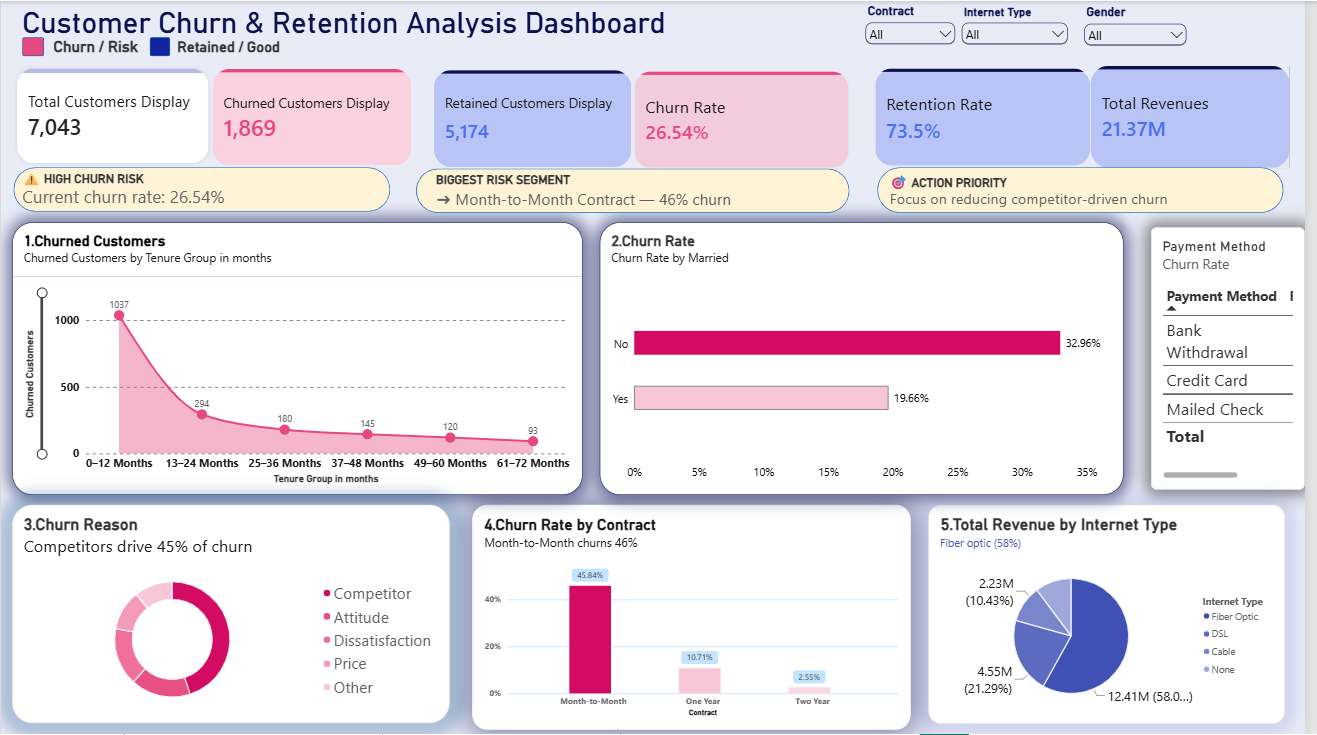

The page's visual inventory and layout, read from the dashboard file:
{"tool":"powerbi","page":{"name":"Churning & Retention Analysis","canvas":[1920,1080],"ordinal":0},"visuals":[{"type":"clusteredColumnChart","title":"4.Churn Rate by Contract","fields":{"Category":["customer churn services.Contract"],"Y":["Customer Churn Status.Churn Rate"]},"box":[694.5,741.8,645.5,330.9],"z":1},{"type":"lineChart","title":"1.Churned Customers","fields":{"Category":["customer churn services.Tenure Group in months"],"Y":["Customer Churn Status.Churned Customers"]},"box":[16.4,325.5,840,401.8],"z":3},{"type":"donutChart","title":"3.Churn Reason","fields":{"Category":["Customer Churn Status.Churn Category"],"Y":["Customer Churn Status.Churned Customers"]},"box":[16.4,741.8,643.6,321.8],"z":4},{"type":"tableEx","title":"Payment Method","fields":{"Values":["customer churn services.Payment Method","Customer Churn Status.Retention Rate"]},"box":[1671.2,333.1,226.4,386.5],"z":5},{"type":"cardVisual","fields":{"Data":["Customer Churn Status.Total Customers Display"]},"box":[18.4,93.9,292,150],"z":7},{"type":"cardVisual","fields":{"Data":["Customer Churn Status.Churned Customers Display"]},"box":[311,99.4,294,144],"z":8},{"type":"cardVisual","fields":{"Data":["Customer Churn Status.Retained Customers Display"]},"box":[636.8,101.2,292,144],"z":9},{"type":"cardVisual","fields":{"Data":["Customer Churn Status.Churn Rate"]},"box":[931.3,103.1,318,144],"z":10},{"type":"cardVisual","fields":{"Data":["Customer Churn Status.Retention Rate"]},"box":[1286.5,99.4,318,144],"z":11},{"type":"cardVisual","fields":{"Data":["customer churn services.Total Revenues"]},"box":[1604.9,95.7,292,150],"z":12},{"type":"shape","box":[219,53.4,30,28],"z":13},{"type":"shape","box":[30.9,52.7,32,28],"z":14},{"type":"textbox","title":"Churn / Risk","box":[77.3,53.4,141.7,29.4],"z":17},{"type":"textbox","title":"Retained / Good","box":[259.5,55.2,176.7,38.7],"z":18},{"type":"textbox","title":"Customer Churn & Retention Analysis Dashboard","box":[31.3,7.4,960,46],"z":21},{"type":"pieChart","title":"5.Total Revenue by Internet Type","fields":{"Category":["customer churn services.Internet Type"],"Y":["customer churn services.Total Revenues"]},"box":[1365.7,741.7,524.5,322.1],"z":22},{"type":"clusteredBarChart","title":"2.Churn Rate","fields":{"Category":["customer churn demographics.Married"],"Y":["Customer Churn Status.Churn Rate"]},"box":[881.6,325.8,771.2,401.2],"z":23},{"type":"shape","box":[18.2,245.5,554.5,65.5],"z":24},{"type":"shape","box":[610.9,247.3,638.2,65.5],"z":25},{"type":"shape","box":[1290.9,245.5,598.2,67.3],"z":26},{"type":"textbox","title":"⚠️ HIGH CHURN RISK ","box":[30.9,247.3,523.6,63.6],"z":27},{"type":"textbox","title":"BIGGEST RISK SEGMENT ","box":[640,252.7,629.1,52.7],"z":28},{"type":"textbox","title":"🎯 ACTION PRIORITY","box":[1309.1,252.7,567.3,52.7],"z":29},{"type":"slicer","fields":{"Values":["customer churn services.Contract"]},"box":[1268.1,3.7,141.7,64.4],"z":30},{"type":"slicer","fields":{"Values":["customer churn services.Internet Type"]},"box":[1409.8,5.5,165.6,64.4],"z":31},{"type":"slicer","fields":{"Values":["customer churn demographics.Gender"]},"box":[1590.2,5.5,160.1,64.4],"z":32}]}

Visuals, with their boxes in screenshot pixels (x1, y1, x2, y2), scaled from the page's 1920x1080 canvas onto the 1317x735 screenshot:
"4.Churn Rate by Contract" clusteredColumnChart: Rect(476, 505, 919, 730)
"1.Churned Customers" lineChart: Rect(11, 222, 587, 495)
"3.Churn Reason" donutChart: Rect(11, 505, 453, 724)
"Payment Method" tableEx: Rect(1146, 227, 1302, 490)
cardVisual - Customer Churn Status.Total Customers Display: Rect(13, 64, 213, 166)
cardVisual - Customer Churn Status.Churned Customers Display: Rect(213, 68, 415, 166)
cardVisual - Customer Churn Status.Retained Customers Display: Rect(437, 69, 637, 167)
cardVisual - Customer Churn Status.Churn Rate: Rect(639, 70, 857, 168)
cardVisual - Customer Churn Status.Retention Rate: Rect(882, 68, 1101, 166)
cardVisual - customer churn services.Total Revenues: Rect(1101, 65, 1301, 167)
shape: Rect(150, 36, 171, 55)
shape: Rect(21, 36, 43, 55)
"Churn / Risk" textbox: Rect(53, 36, 150, 56)
"Retained / Good" textbox: Rect(178, 38, 299, 64)
"Customer Churn & Retention Analysis Dashboard" textbox: Rect(21, 5, 680, 36)
"5.Total Revenue by Internet Type" pieChart: Rect(937, 505, 1297, 724)
"2.Churn Rate" clusteredBarChart: Rect(605, 222, 1134, 495)
shape: Rect(12, 167, 393, 212)
shape: Rect(419, 168, 857, 213)
shape: Rect(885, 167, 1296, 213)
"⚠️ HIGH CHURN RISK " textbox: Rect(21, 168, 380, 212)
"BIGGEST RISK SEGMENT " textbox: Rect(439, 172, 871, 208)
"🎯 ACTION PRIORITY" textbox: Rect(898, 172, 1287, 208)
slicer - customer churn services.Contract: Rect(870, 3, 967, 46)
slicer - customer churn services.Internet Type: Rect(967, 4, 1081, 48)
slicer - customer churn demographics.Gender: Rect(1091, 4, 1201, 48)
